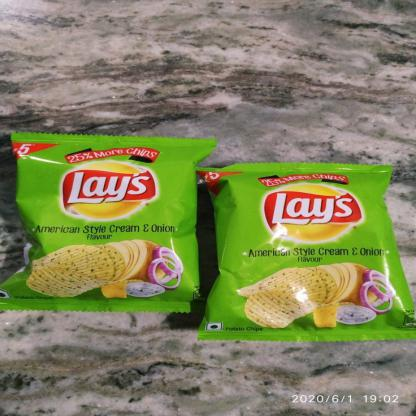cream_and_onion: (0, 133, 218, 317), (195, 164, 415, 340)
